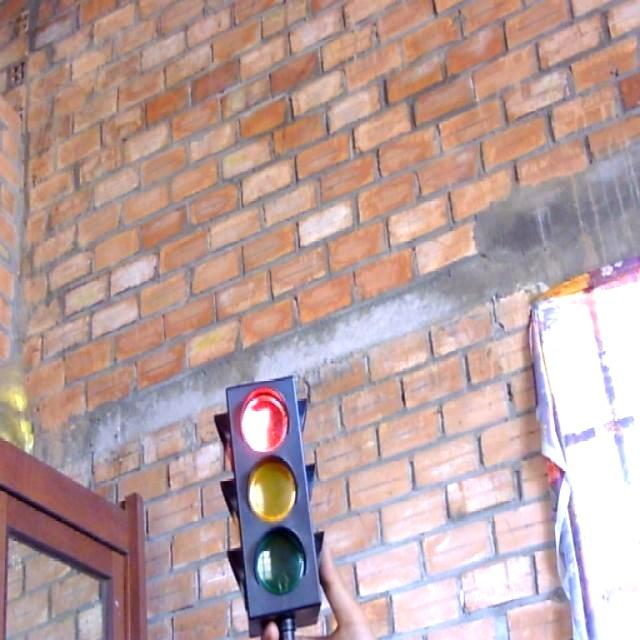Red: (193, 368, 341, 630)
